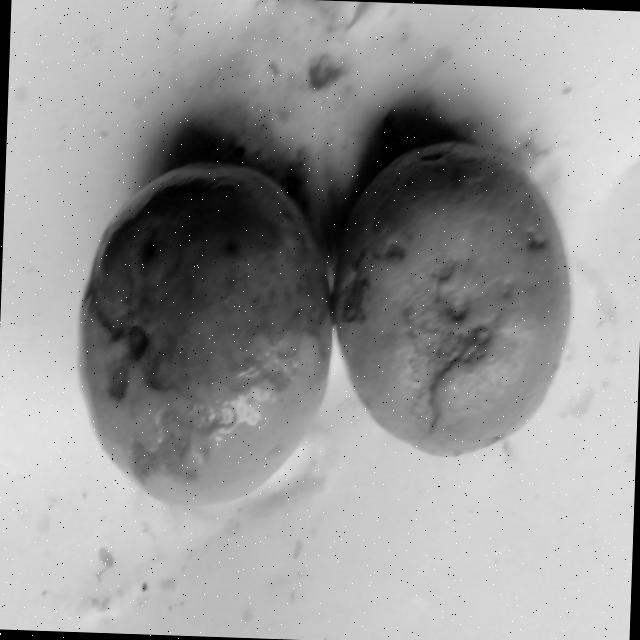Rotten: (72, 154, 338, 511), (331, 135, 578, 458)
